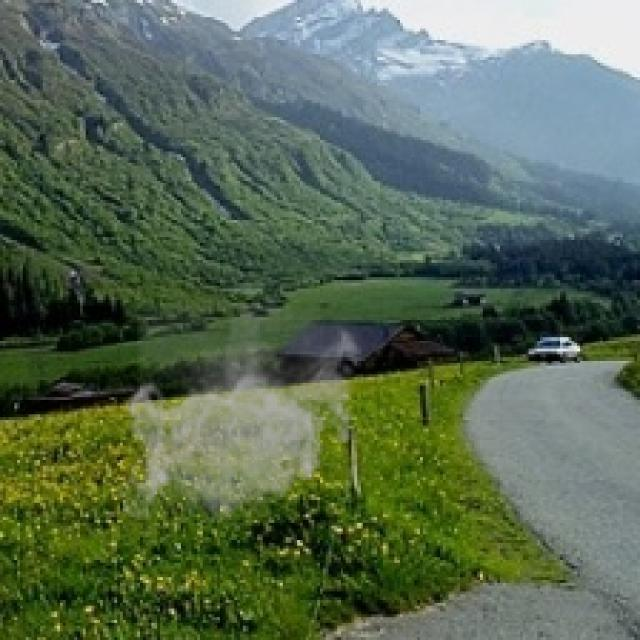Smoke: (122, 303, 368, 532)
